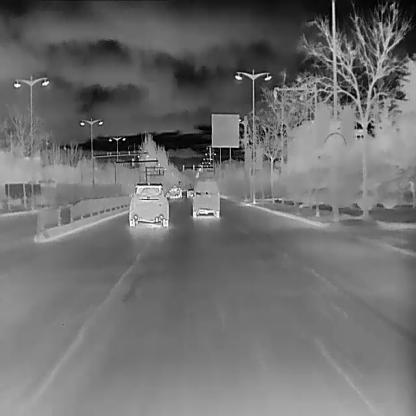car: (127, 180, 169, 227), (191, 175, 220, 217), (168, 186, 180, 198), (172, 184, 182, 197), (186, 187, 196, 197)
